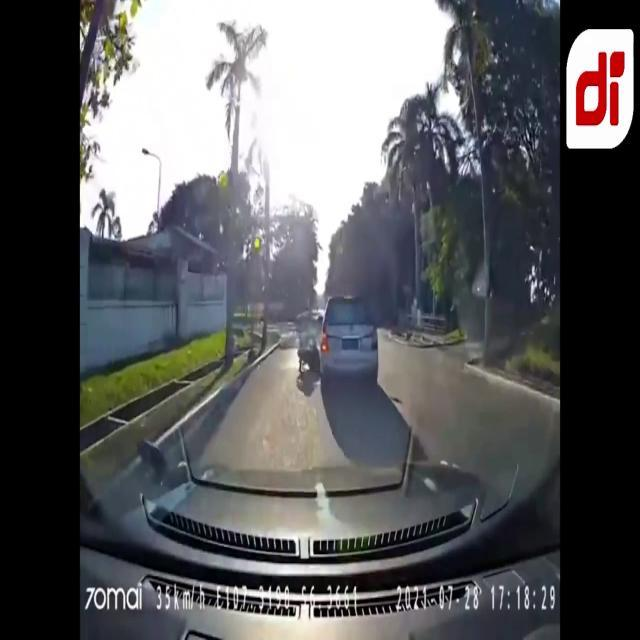multiple_accident: (280, 276, 406, 401)
